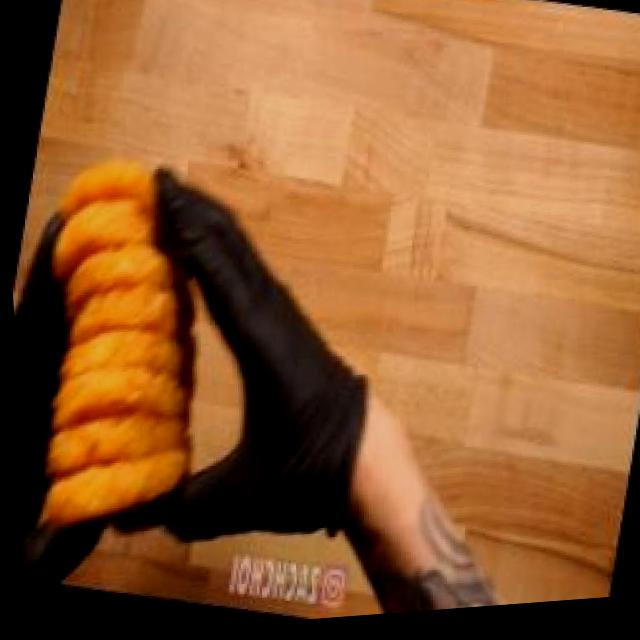Hashbrown: (4, 103, 260, 565)
